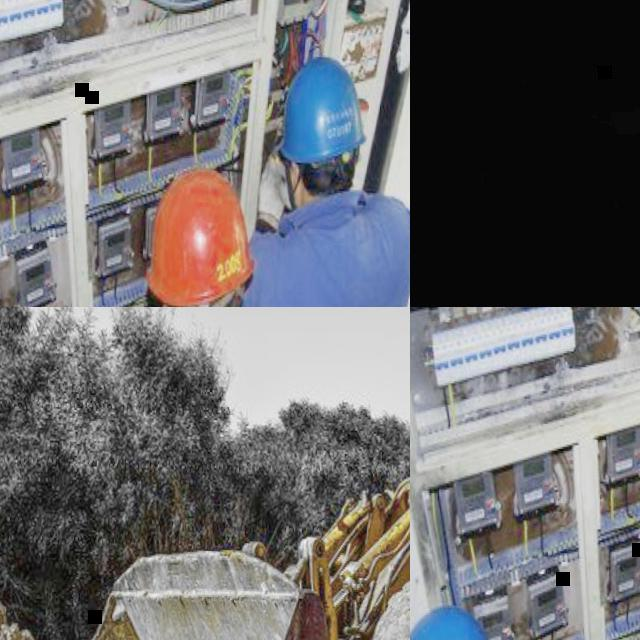helmet: (141, 166, 260, 307), (274, 55, 370, 169)
machinery: (4, 307, 410, 640)
no_vest: (246, 194, 410, 307)
person: (221, 52, 410, 307), (91, 161, 289, 307)
